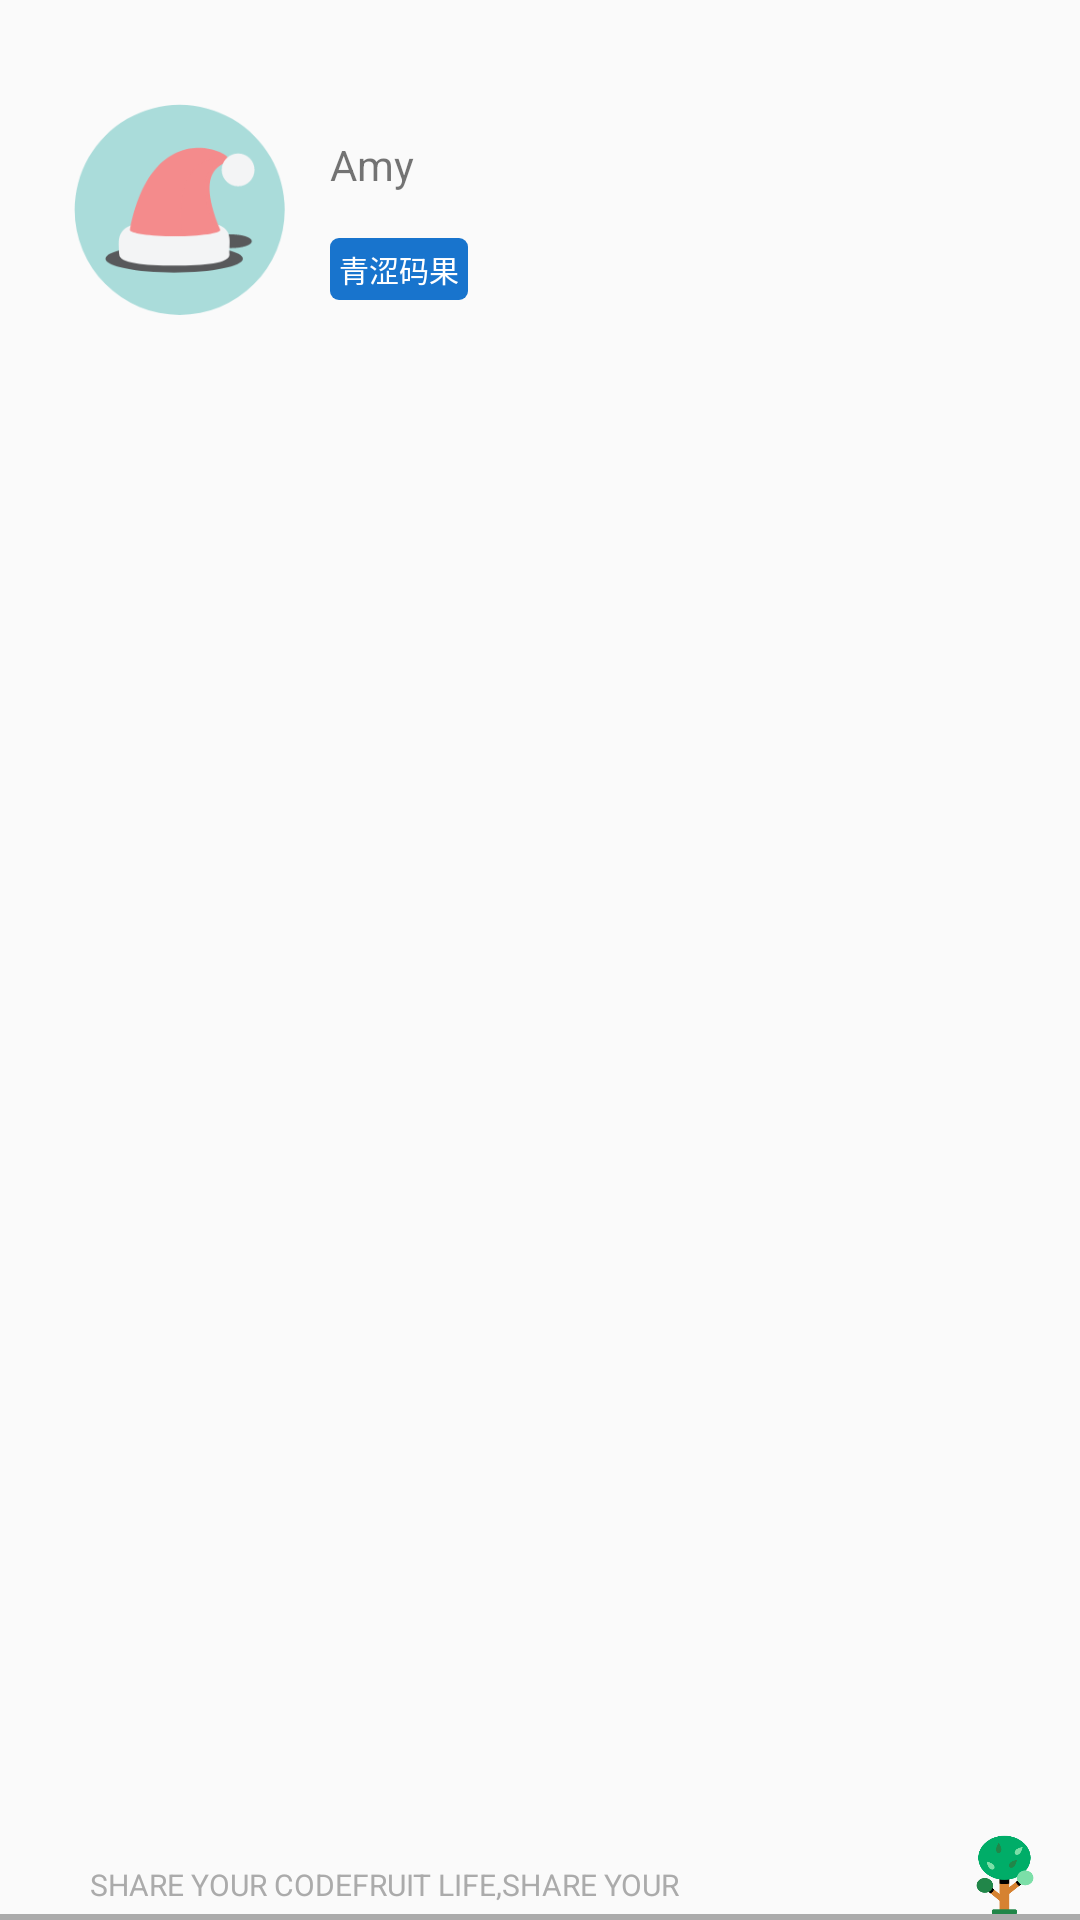

Where to tap for icons on this 1080 × 1920 app screen, as point (x, y):
tree: point (1005, 1877)
